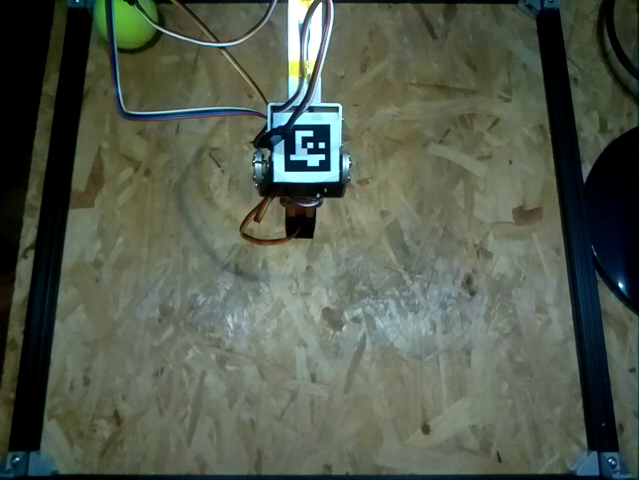tennis_ball: (93, 1, 161, 55)
